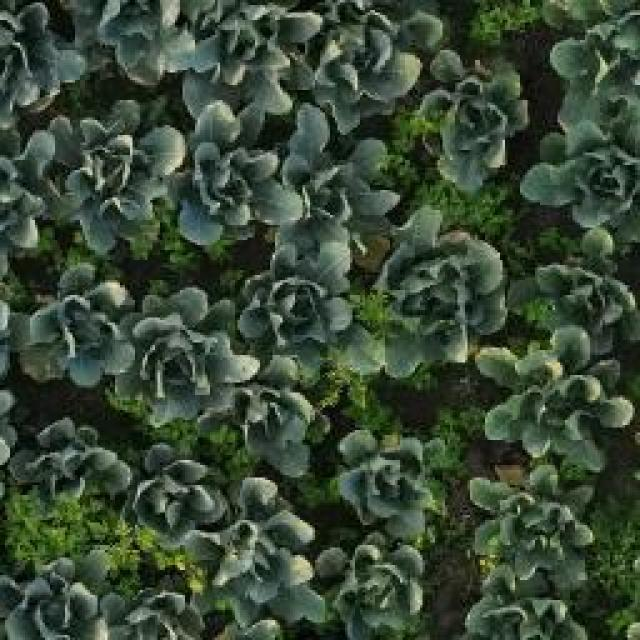cabbage: (365, 206, 509, 374), (474, 329, 638, 464), (115, 288, 255, 428), (200, 475, 326, 627), (61, 113, 186, 252), (12, 263, 137, 400), (176, 4, 321, 117), (306, 0, 434, 126), (416, 49, 531, 186), (469, 466, 598, 584), (232, 237, 356, 354), (1, 410, 134, 517), (517, 114, 640, 228), (115, 433, 228, 546), (230, 348, 332, 473), (332, 426, 448, 534), (0, 545, 128, 640), (317, 534, 429, 638), (529, 224, 638, 329), (0, 0, 87, 122), (290, 140, 394, 238), (190, 140, 288, 234)
